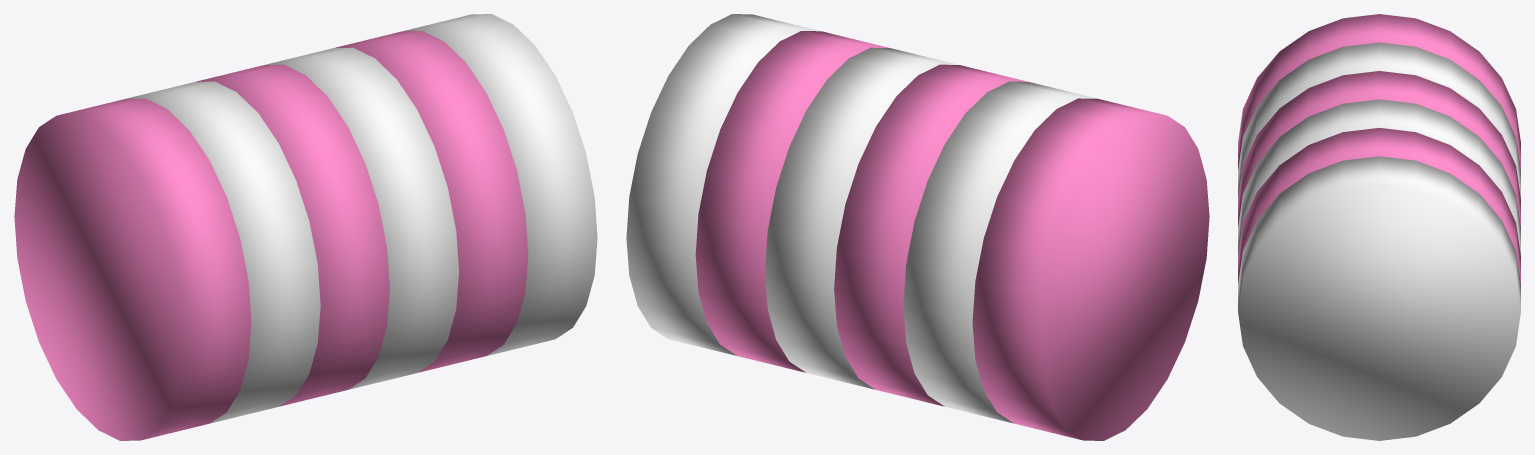
Rendered from arm.glb.
3 views of the same model, side by side, from view 1: azimuth 30°, elevation 25°; view 2: azimuth 150°, elevation 25°; view 3: azimuth 270°, elevation 25° (orthographic). The views are drawn at different scales.
Parts seen in each view (by area): view 1: ArmSeg0, ArmSeg2, ArmSeg5, ArmSeg1, ArmSeg3, ArmSeg4; view 2: ArmSeg0, ArmSeg2, ArmSeg5, ArmSeg1, ArmSeg3, ArmSeg4; view 3: ArmSeg5, ArmSeg3, ArmSeg2, ArmSeg0, ArmSeg1, ArmSeg4.
Part boxes in pixels (left/top/right/bottom): ArmSeg0: left=14, top=98, right=251, bottom=440; ArmSeg2: left=195, top=64, right=389, bottom=406; ArmSeg5: left=403, top=14, right=597, bottom=355; ArmSeg1: left=127, top=81, right=320, bottom=423; ArmSeg3: left=265, top=47, right=458, bottom=389; ArmSeg4: left=335, top=31, right=528, bottom=372; ArmSeg0: left=972, top=98, right=1209, bottom=440; ArmSeg2: left=834, top=64, right=1028, bottom=406; ArmSeg5: left=626, top=14, right=820, bottom=355; ArmSeg1: left=903, top=81, right=1096, bottom=423; ArmSeg3: left=765, top=47, right=958, bottom=389; ArmSeg4: left=695, top=31, right=888, bottom=372; ArmSeg5: left=1238, top=156, right=1520, bottom=440; ArmSeg3: left=1238, top=99, right=1520, bottom=255; ArmSeg2: left=1238, top=71, right=1520, bottom=226; ArmSeg0: left=1238, top=14, right=1520, bottom=169; ArmSeg1: left=1238, top=42, right=1520, bottom=198; ArmSeg4: left=1238, top=128, right=1520, bottom=283.
Size of the model in its own units: 1 by 0.7 by 0.7.
